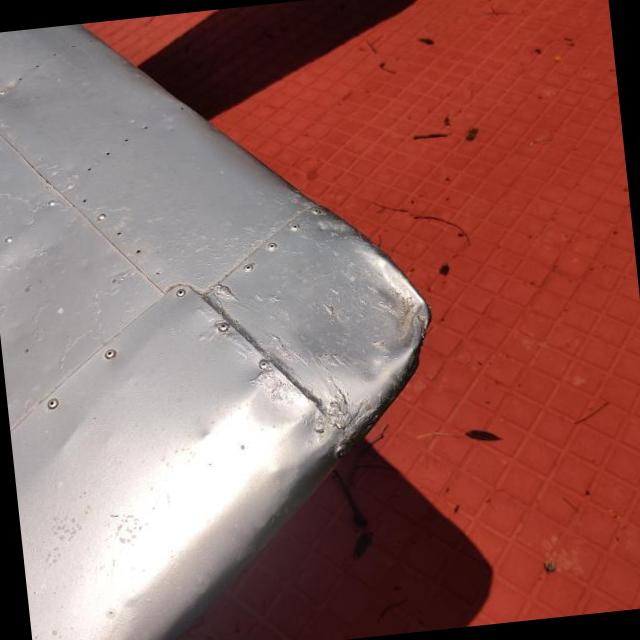Dent: (294, 211, 429, 396)
